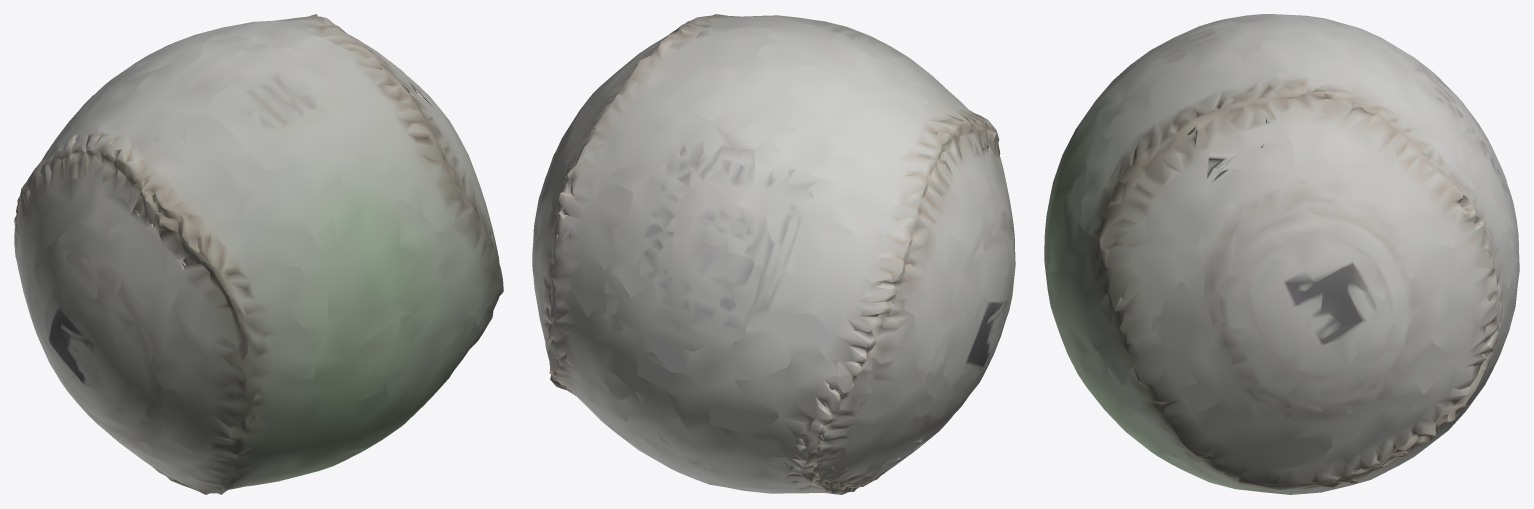
The model's file is 0015_mask_016_baseball.glb.
3 views of the same model, side by side, from view 1: azimuth 30°, elevation 25°; view 2: azimuth 150°, elevation 25°; view 3: azimuth 270°, elevation 25° (orthographic). The views are drawn at different scales.
Visible parts, largest first — view 1: mask_016_object; view 2: mask_016_object; view 3: mask_016_object.
Part boxes in pixels (bbox=[...]): mask_016_object: bbox=[14, 14, 503, 494]; mask_016_object: bbox=[532, 14, 1015, 494]; mask_016_object: bbox=[1044, 14, 1519, 494].
Bounding box in the file's own units: 0.1217 × 0.1198 × 0.118.
